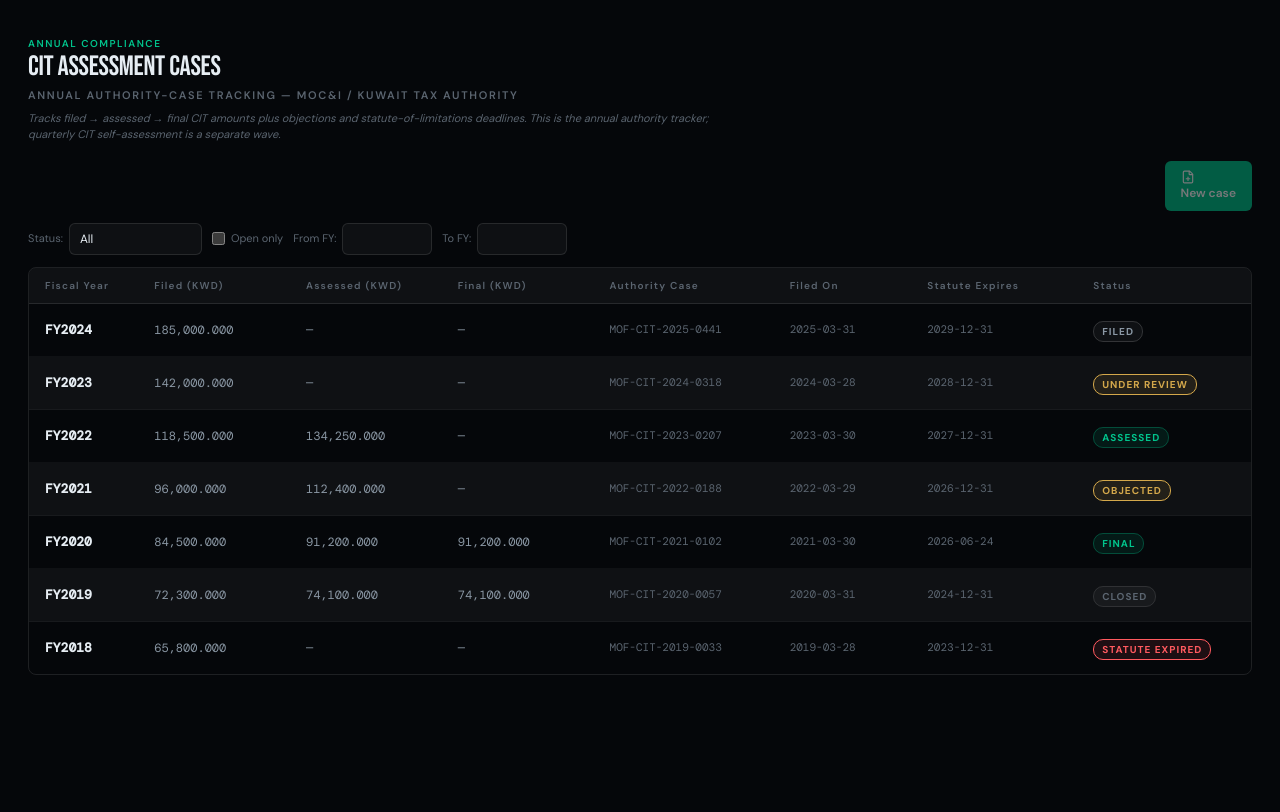
Test: CITAssessmentScreen — per-case detail › Junior (VIEWER) sees all transition buttons present but disabled
Click the button with aria-label "Open case".
click(640, 542)  # box x1=29 y1=516 x2=1251 y2=568
(page scrolled)
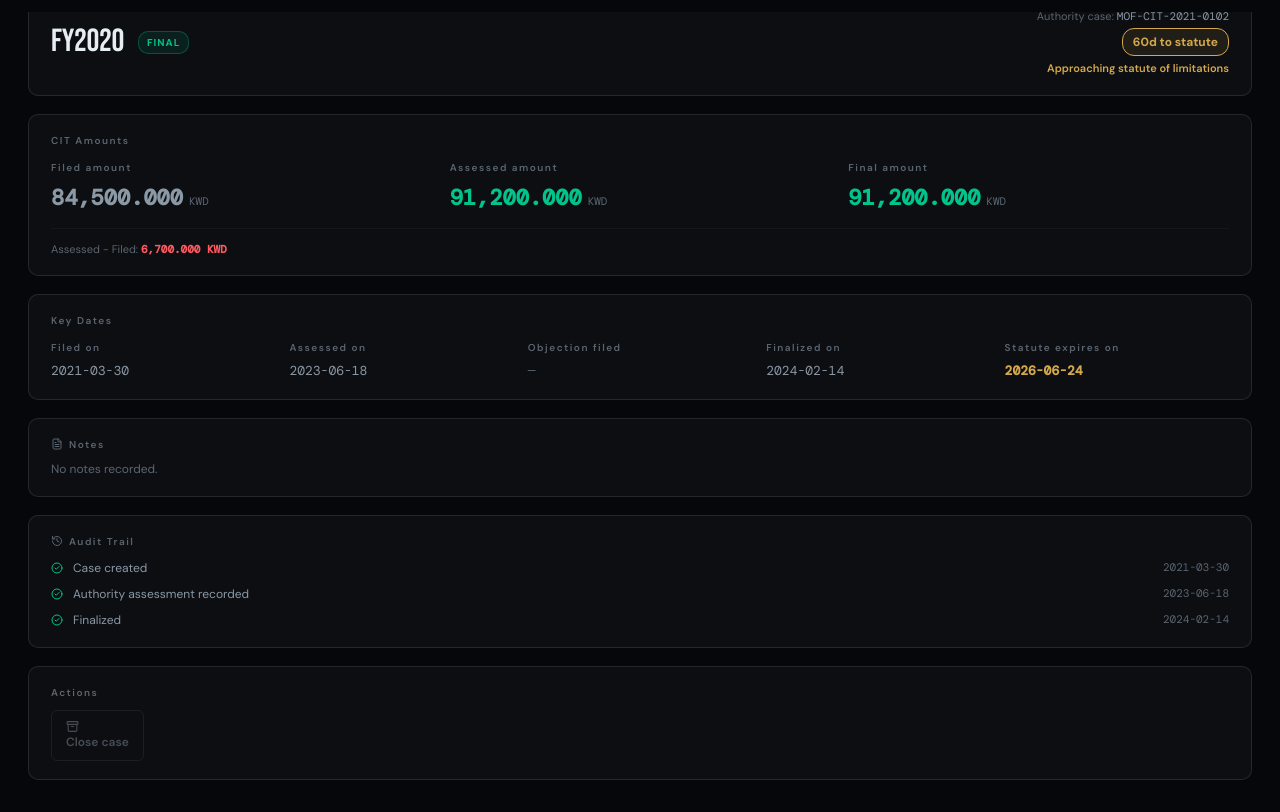
Result: the element with test id "cit-detail-view" is shown
Result: the button with test id "cit-action-close" is disabled at x1=51 y1=710 x2=144 y2=760
